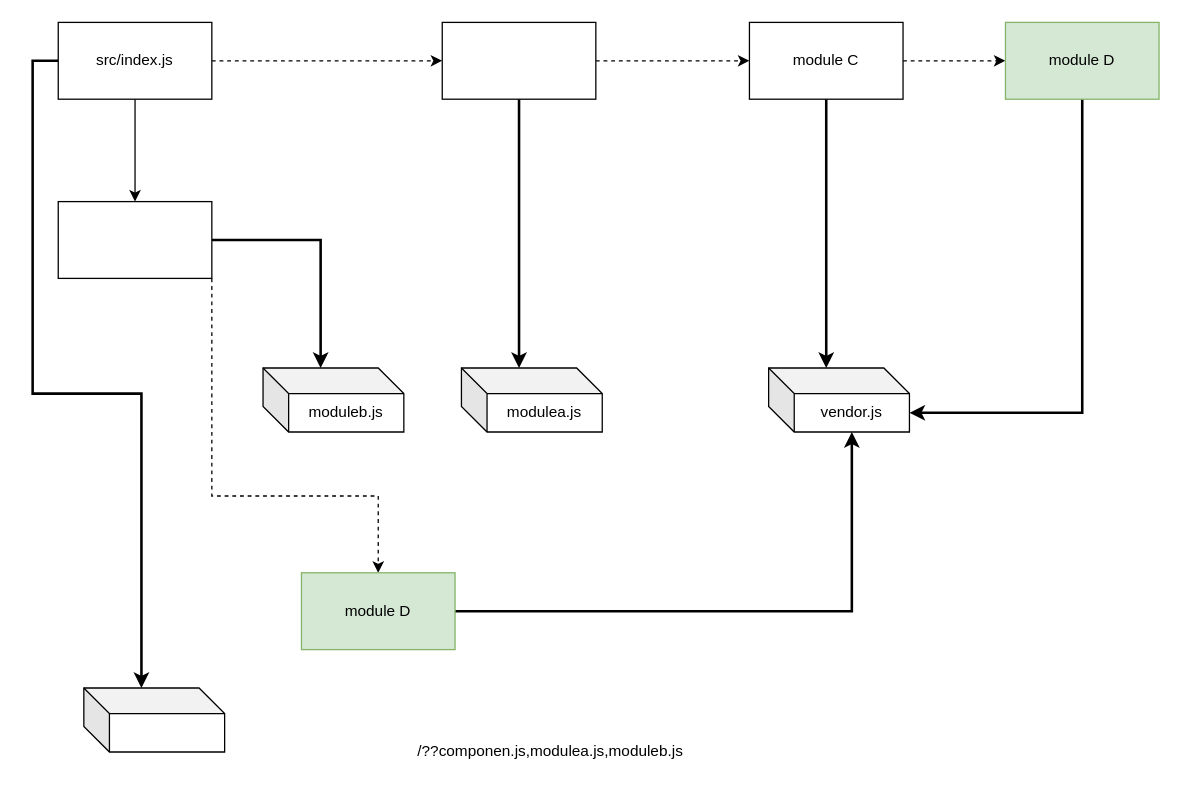
This 1181x787 diagram has some shape labels left out. The shapes that lost their labels are listed below. From the top down, each one's centre as x and y in pixels, then its label:
At pixel 518 60: "module A".
At pixel 134 239: "module B".
At pixel 154 719: "component.js".
